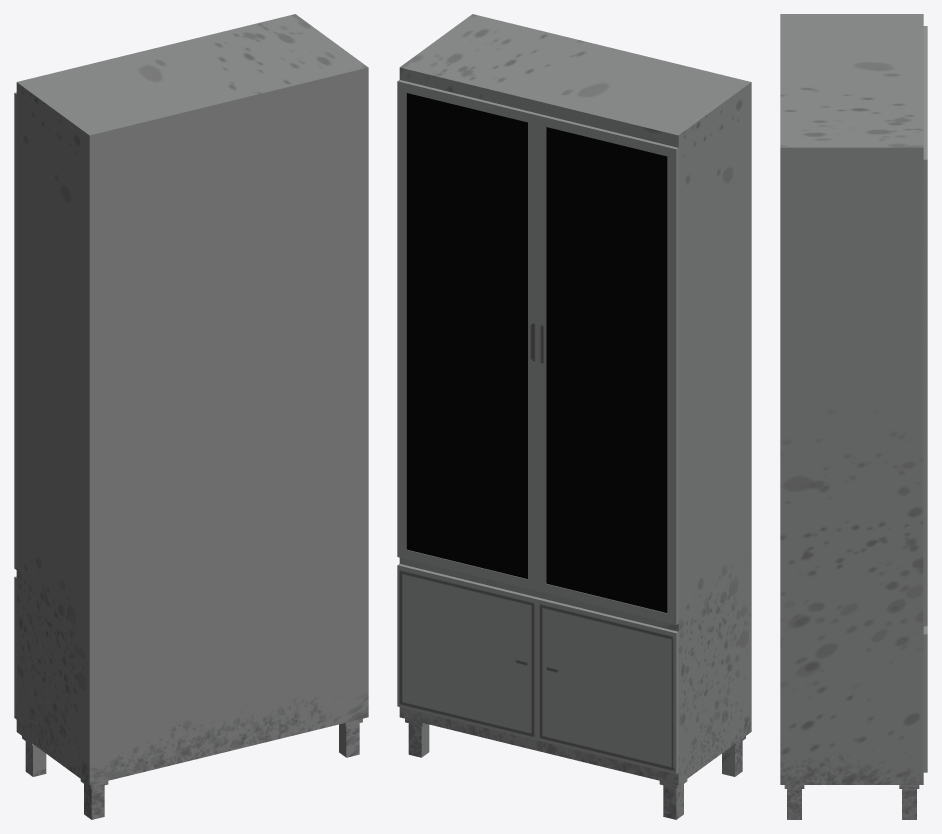
Rendered from Prop_Closet_Storage.fbx.
3 renders of one model, left to right at view 1: azimuth 30°, elevation 25°; view 2: azimuth 150°, elevation 25°; view 3: azimuth 270°, elevation 25°, orthographic.
Visible parts, largest first — view 1: Closet, Cube.023; view 2: Closet, Cube.023, Cube.024, Cube.026, Cube.025; view 3: Closet, Cube.024, Cube.025, Cube.023.
Part boxes in pixels (x1,y1,x2,y2): Closet: (16,14,368,819); Cube.023: (14,92,16,569); Closet: (399,14,751,819); Cube.023: (537,114,678,624); Cube.024: (397,80,538,590); Cube.026: (537,598,678,774); Cube.025: (397,563,538,740); Closet: (780,14,923,819); Cube.024: (923,93,927,626); Cube.025: (923,626,927,772); Cube.023: (923,26,927,92).
Bounding box in the file's own units: 81.25 × 192 × 37.88.
